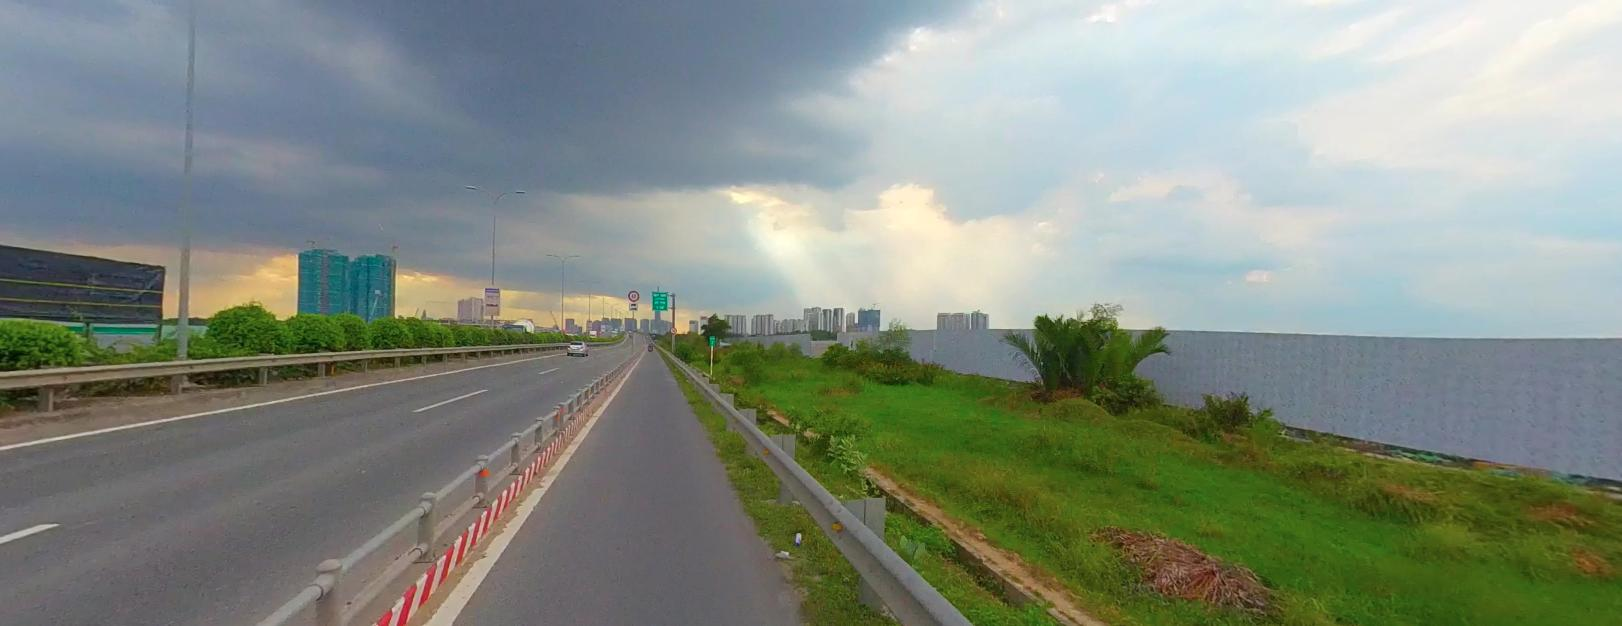Cam con lai: (668, 325, 675, 332)
Gioi han toc do: (627, 289, 639, 300)
